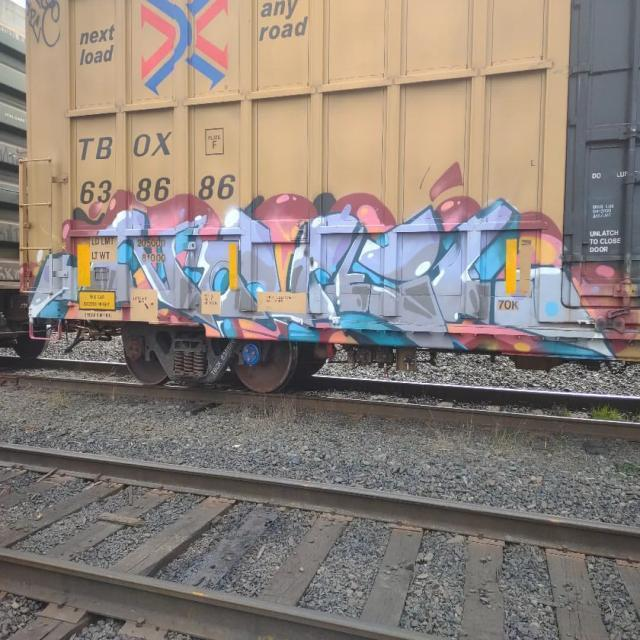nonspitting: (27, 162, 640, 350)
